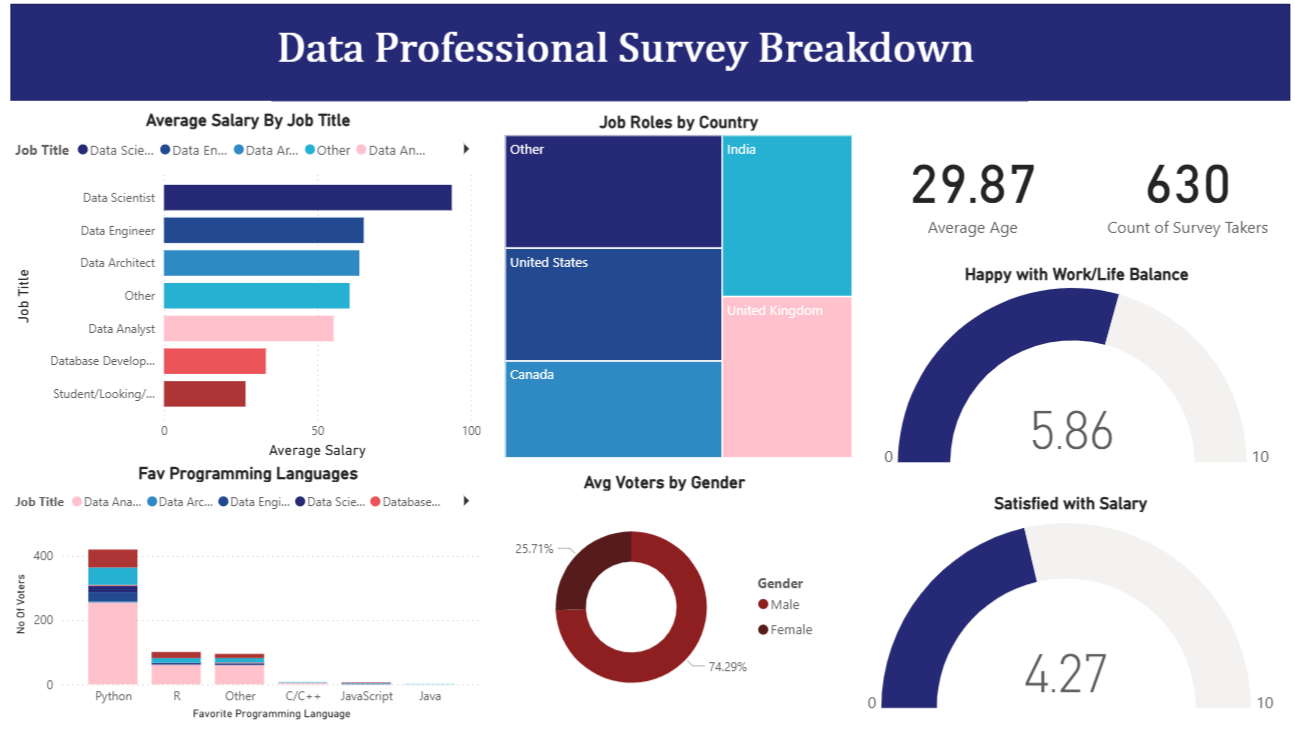

This screenshot's page, from the dashboard's own definition file:
{"tool":"powerbi","page":{"name":"Page 1","canvas":[1280,720],"ordinal":0},"visuals":[{"type":"shape","box":[0,0,1280,97.1],"z":0},{"type":"textbox","box":[261.4,17.1,757.1,80],"z":1000},{"type":"card","fields":{"Values":["CountNonNull(Data Professional Survey.Unique ID)"]},"box":[1082.9,107.1,190,152.9],"z":2000},{"type":"card","fields":{"Values":["Avg(Data Professional Survey.Q10 - Current Age)"]},"box":[865.7,107.1,192.9,152.9],"z":3000},{"type":"barChart","title":"Average Salary By Job Title","fields":{"Category":["Data Professional Survey.Q1 - Which Title Best Fits your Current Role?.1"],"Y":["Avg(Data Professional Survey.Average Salary)"],"Series":["Data Professional Survey.Q1 - Which Title Best Fits your Current Role?.1"]},"box":[0,105.7,475.7,352.9],"z":4000},{"type":"columnChart","title":"Fav Programming Languages","fields":{"Category":["Data Professional Survey.Q5 - Favorite Programming Language.1"],"Y":["CountNonNull(Data Professional Survey.Q1 - Which Title Best Fits your Current Role?.1)"],"Series":["Data Professional Survey.Q1 - Which Title Best Fits your Current Role?.1"]},"box":[0,458.6,475.7,261.4],"z":5000},{"type":"treemap","fields":{"Group":["Data Professional Survey.Q11 - Which Country do you live in?.1"],"Values":["Count(Data Professional Survey.Q1 - Which Title Best Fits your Current Role?.1)"]},"box":[490,107.1,357.1,351.4],"z":6000},{"type":"gauge","title":"Happy with Work/Life Balance","fields":{"Y":["Avg(Data Professional Survey.Q6 - How Happy are you in your Current Position with the following? (Coworkers))"],"MinValue":["Min(Data Professional Survey.Q6 - How Happy are you in your Current Position with the following? (Coworkers))1"],"MaxValue":["Max(Data Professional Survey.Q6 - How Happy are you in your Current Position with the following? (Coworkers))2"]},"box":[860,260,412.9,208.6],"z":7000},{"type":"gauge","title":"Satisfied with Salary","fields":{"Y":["Avg(Data Professional Survey.Q6 - How Happy are you in your Current Position with the following? (Salary))"],"MinValue":["Min(Data Professional Survey.Q6 - How Happy are you in your Current Position with the following? (Salary))"],"MaxValue":["Max(Data Professional Survey.Q6 - How Happy are you in your Current Position with the following? (Salary))1"]},"box":[847.1,488.6,425.7,231.4],"z":8000},{"type":"donutChart","fields":{"Category":["Data Professional Survey.Q9 - Male/Female?"],"Y":["CountNonNull(Data Professional Survey.Q9 - Male/Female?)"]},"box":[489.8,468.1,328.1,252.2],"z":9000}]}

Visuals, with their boxes in screenshot pixels (x1, y1, x2, y2), scaled from the page's 1280x720 canvas onto the 1295x742 screenshot:
shape: box=[0, 0, 1294, 100]
textbox: box=[264, 18, 1030, 100]
card - CountNonNull(Data Professional Survey.Unique ID): box=[1096, 110, 1288, 268]
card - Avg(Data Professional Survey.Q10 - Current Age): box=[876, 110, 1071, 268]
"Average Salary By Job Title" barChart: box=[0, 109, 481, 473]
"Fav Programming Languages" columnChart: box=[0, 473, 481, 741]
treemap - Data Professional Survey.Q11 - Which Country do you live in?.1 x Count(Data Professional Survey.Q1 - Which Title Best Fits your Current Role?.1): box=[496, 110, 857, 473]
"Happy with Work/Life Balance" gauge: box=[870, 268, 1288, 483]
"Satisfied with Salary" gauge: box=[857, 504, 1288, 741]
donutChart - Data Professional Survey.Q9 - Male/Female? x CountNonNull(Data Professional Survey.Q9 - Male/Female?): box=[496, 482, 827, 741]
